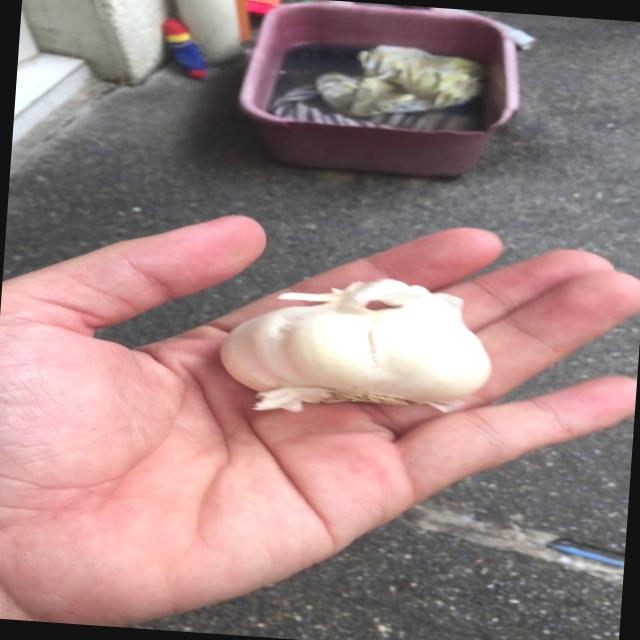garlic: (212, 266, 503, 419)
